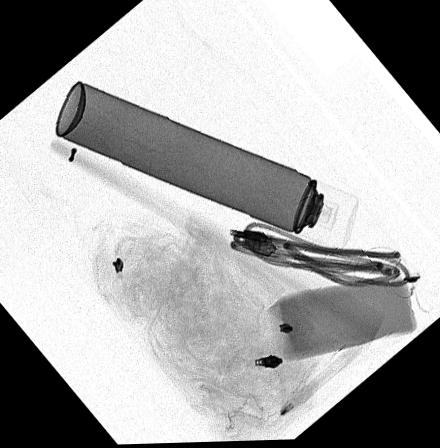Sprayer: (53, 83, 358, 254)
